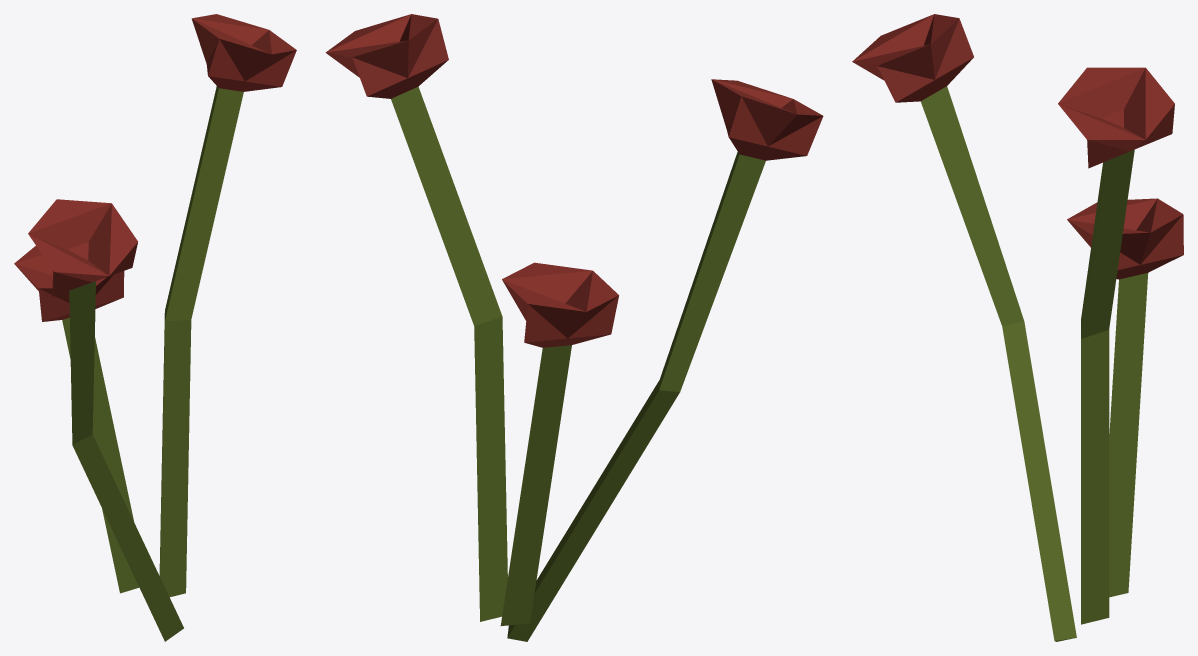
Rendered from VaseFlowers1.glb.
The picture shows the model from 3 angles, left to right: view 1: azimuth 30°, elevation 25°; view 2: azimuth 150°, elevation 25°; view 3: azimuth 270°, elevation 25°; orthographic projection. The views are drawn at different scales.
Visible parts, largest first — view 1: VaseFlowers1; view 2: VaseFlowers1; view 3: VaseFlowers1.
Boxes of the visible parts, x1,y1,x2,y2 form: VaseFlowers1: (14,14,296,641); VaseFlowers1: (325,14,823,641); VaseFlowers1: (852,14,1183,641).
Size of the model in its own units: 0.2794 by 0.4508 by 0.2223.
